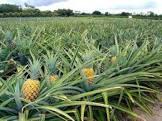Pineapple: (22, 58, 40, 101), (80, 49, 98, 86)
